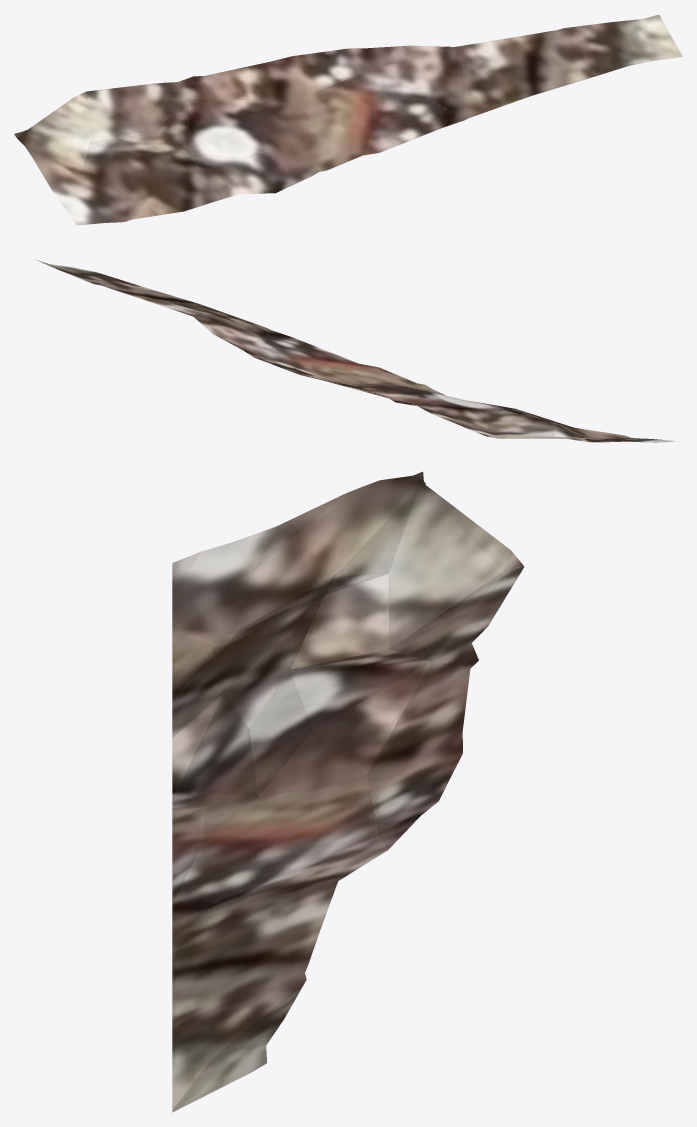
3 renders of one model, top to bottom at view 1: azimuth 30°, elevation 25°; view 2: azimuth 150°, elevation 25°; view 3: azimuth 270°, elevation 25°, orthographic. The views are drawn at different scales.
Size of the model in its own units: 1.67 by 0.1638 by 0.4212.
1 material, 1 textured.
